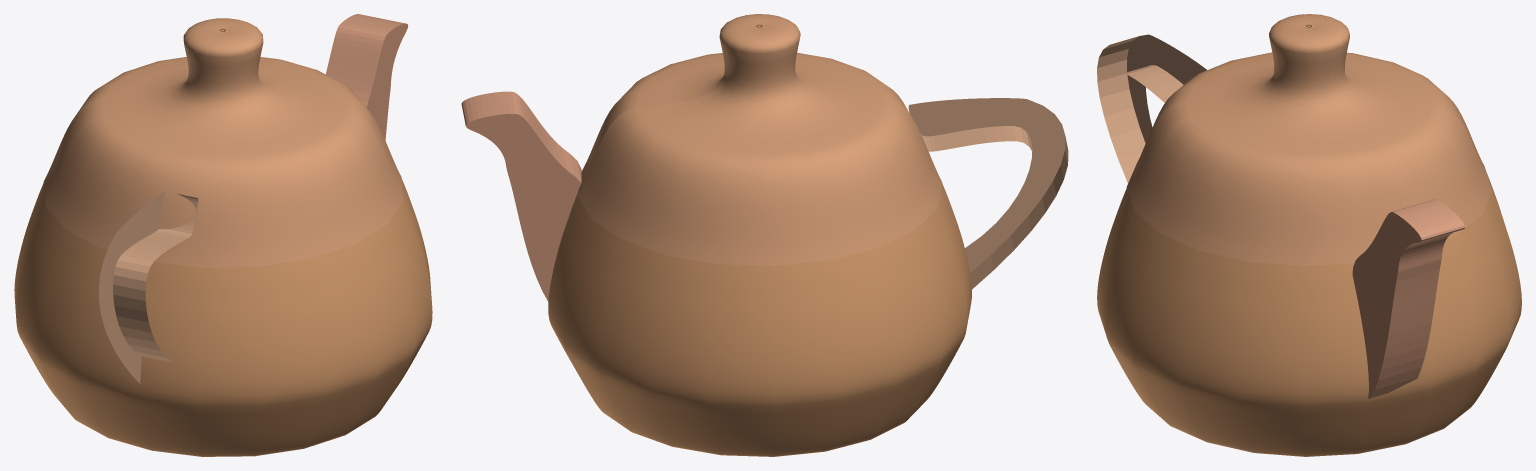
The model's file is Tetera.glb.
3 renders of one model, left to right at view 1: azimuth 30°, elevation 25°; view 2: azimuth 150°, elevation 25°; view 3: azimuth 270°, elevation 25°, orthographic.
Parts seen in each view (by area): view 1: BezierCurve, BezierCurve.003, BezierCurve.002; view 2: BezierCurve, BezierCurve.003, BezierCurve.002; view 3: BezierCurve, BezierCurve.002, BezierCurve.003.
Boxes of the visible parts, <box> form: BezierCurve: <box>14,18,432,456</box>; BezierCurve.003: <box>99,192,198,383</box>; BezierCurve.002: <box>325,14,408,140</box>; BezierCurve: <box>548,14,971,456</box>; BezierCurve.003: <box>908,98,1068,289</box>; BezierCurve.002: <box>461,91,581,301</box>; BezierCurve: <box>1097,14,1521,456</box>; BezierCurve.002: <box>1352,199,1464,398</box>; BezierCurve.003: <box>1097,34,1206,183</box>.
Size of what is drawn, in the model's own units: 4.67 by 3.54 by 3.75.
